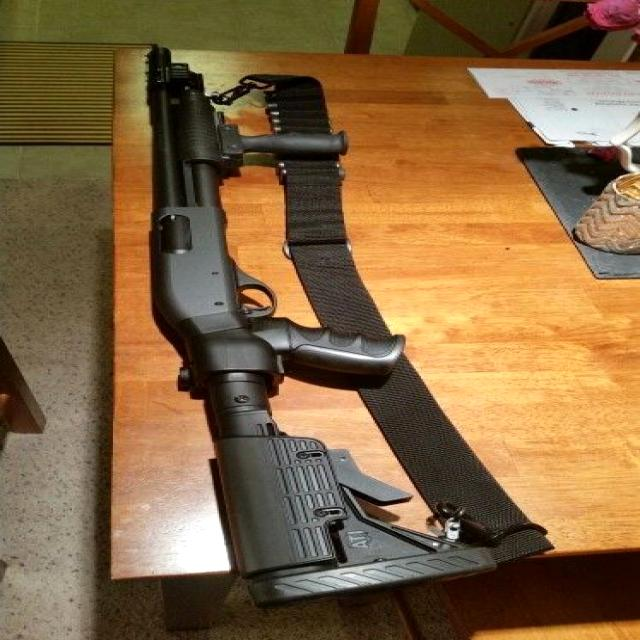shotgun: (134, 32, 544, 601)
